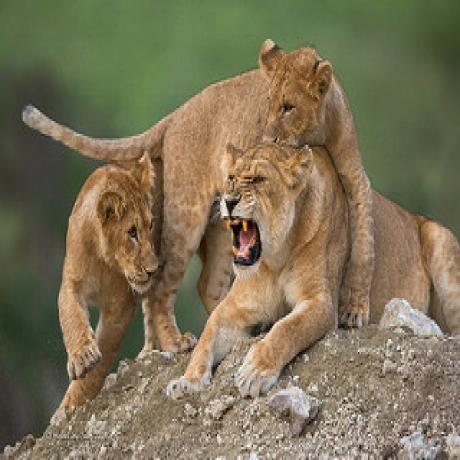Lion: (152, 34, 360, 374), (218, 136, 460, 388), (50, 154, 158, 384)
